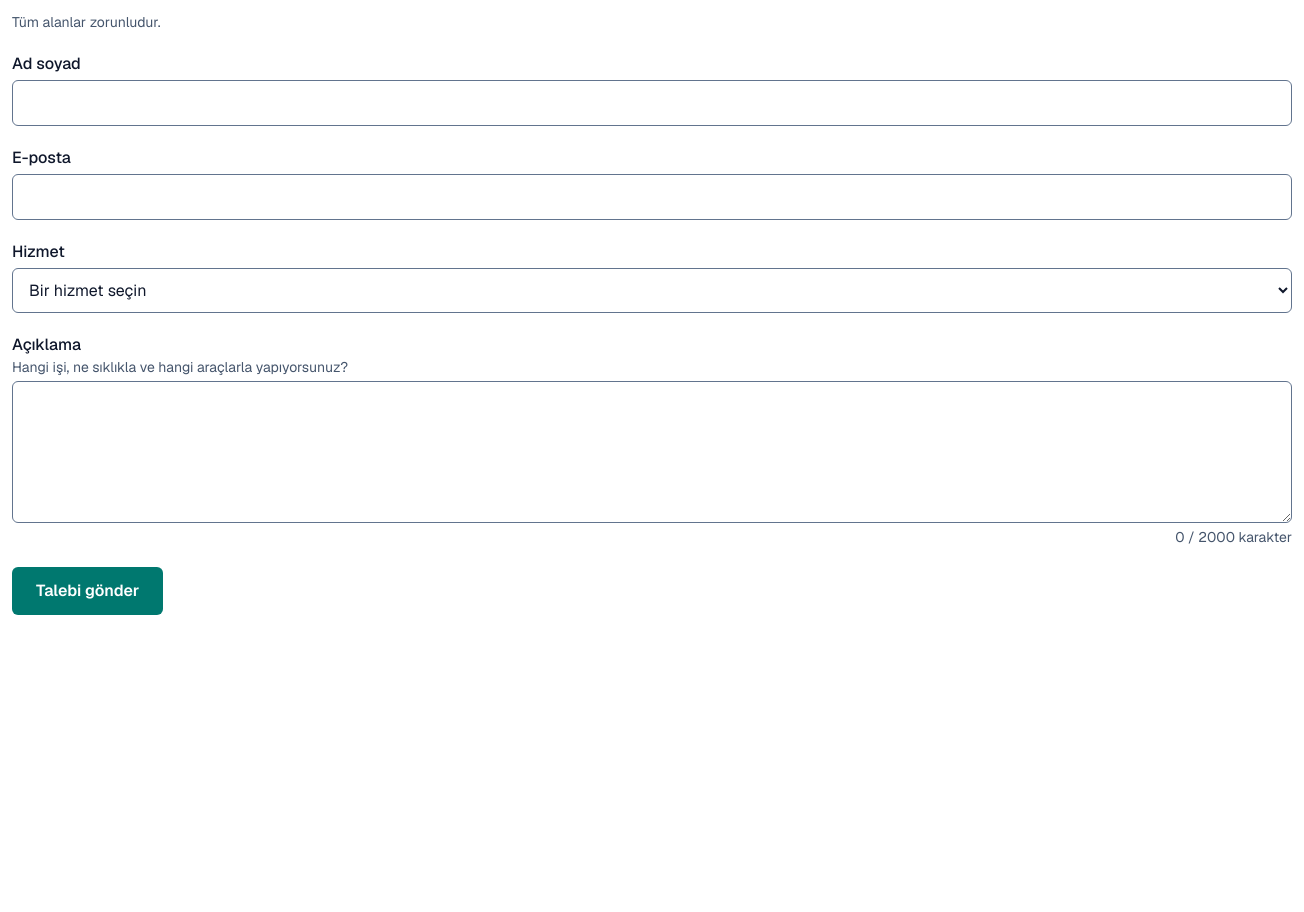
RequestForm › never shows success on 201 without an id and keeps the entered data
Type "Ayşe Yılmaz" into the field labelled "Ad soyad" at (652, 103), box [12, 80, 1292, 126]
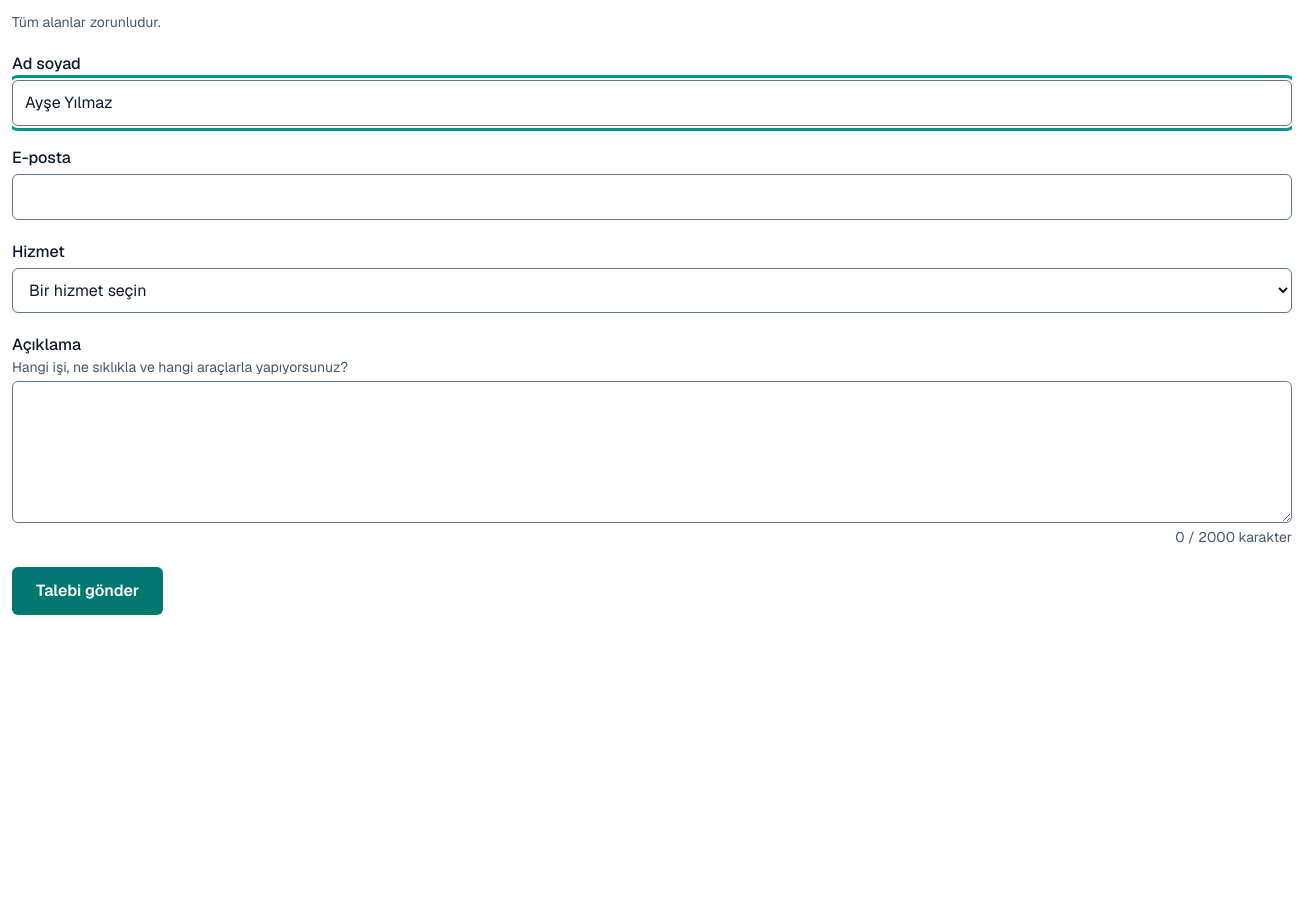
Type "Ayse@Ornek.com" into the field labelled "E-posta" at (652, 197), box [12, 174, 1292, 220]
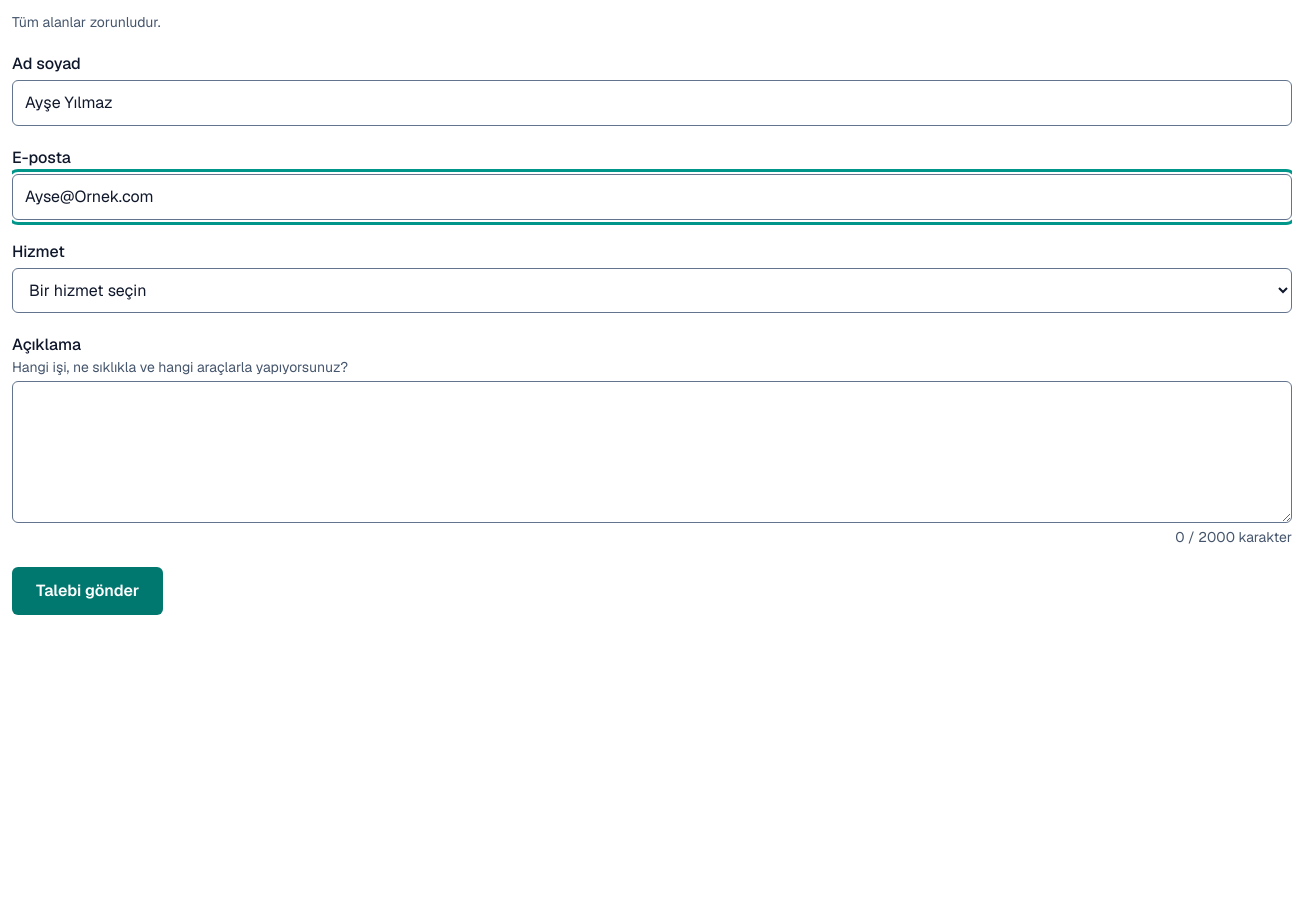
Select "Fatura ve belge otomasyonu" in the dropdown labelled "Hizmet" at (652, 290), box [12, 268, 1292, 313]
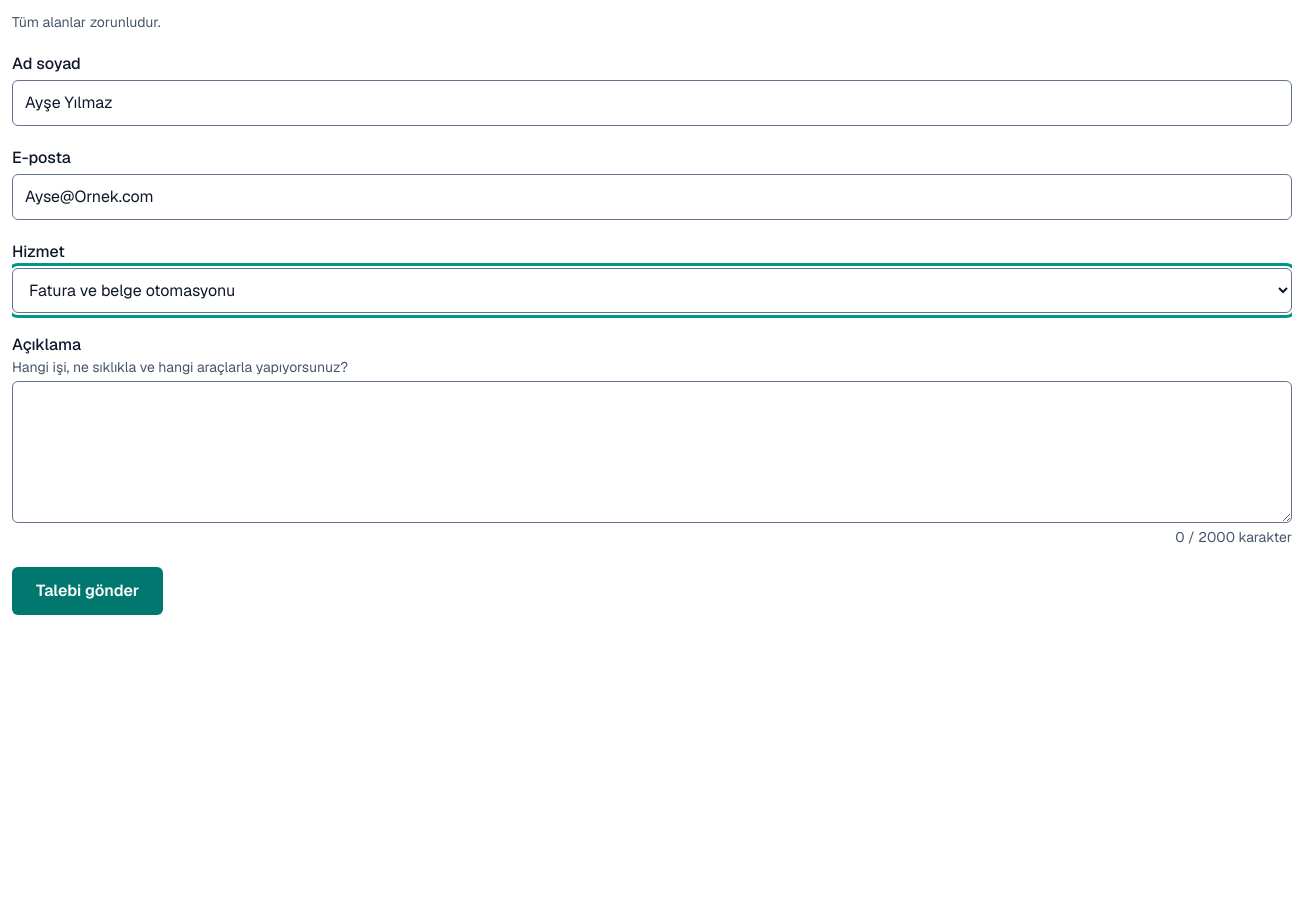
Type "Aylık 200 faturayı elle giriyoruz." into the text box labelled "Açıklama" at (652, 452), box [12, 381, 1292, 523]
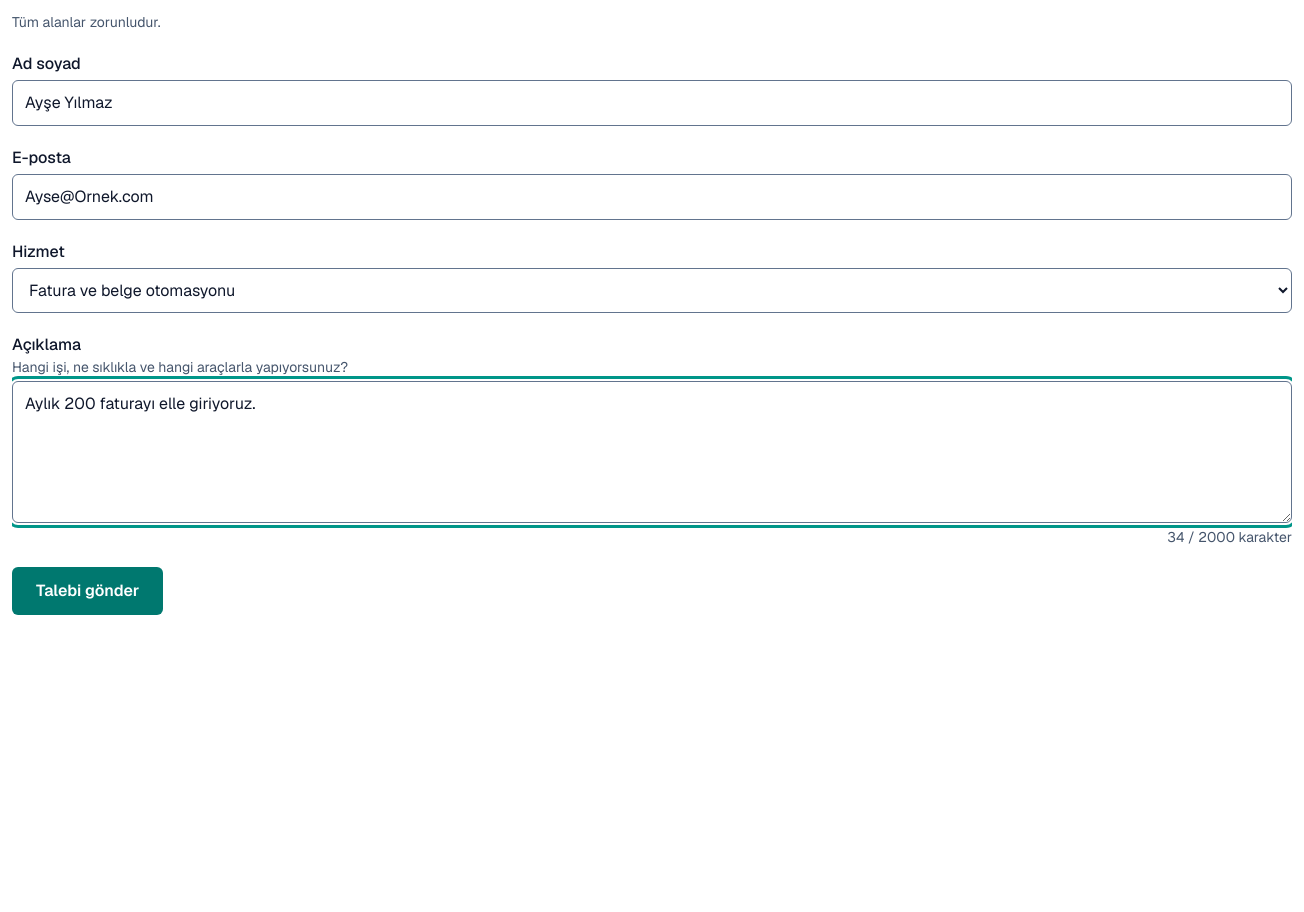
Click the button "Talebi gönder" at (88, 591), box [12, 567, 163, 615]
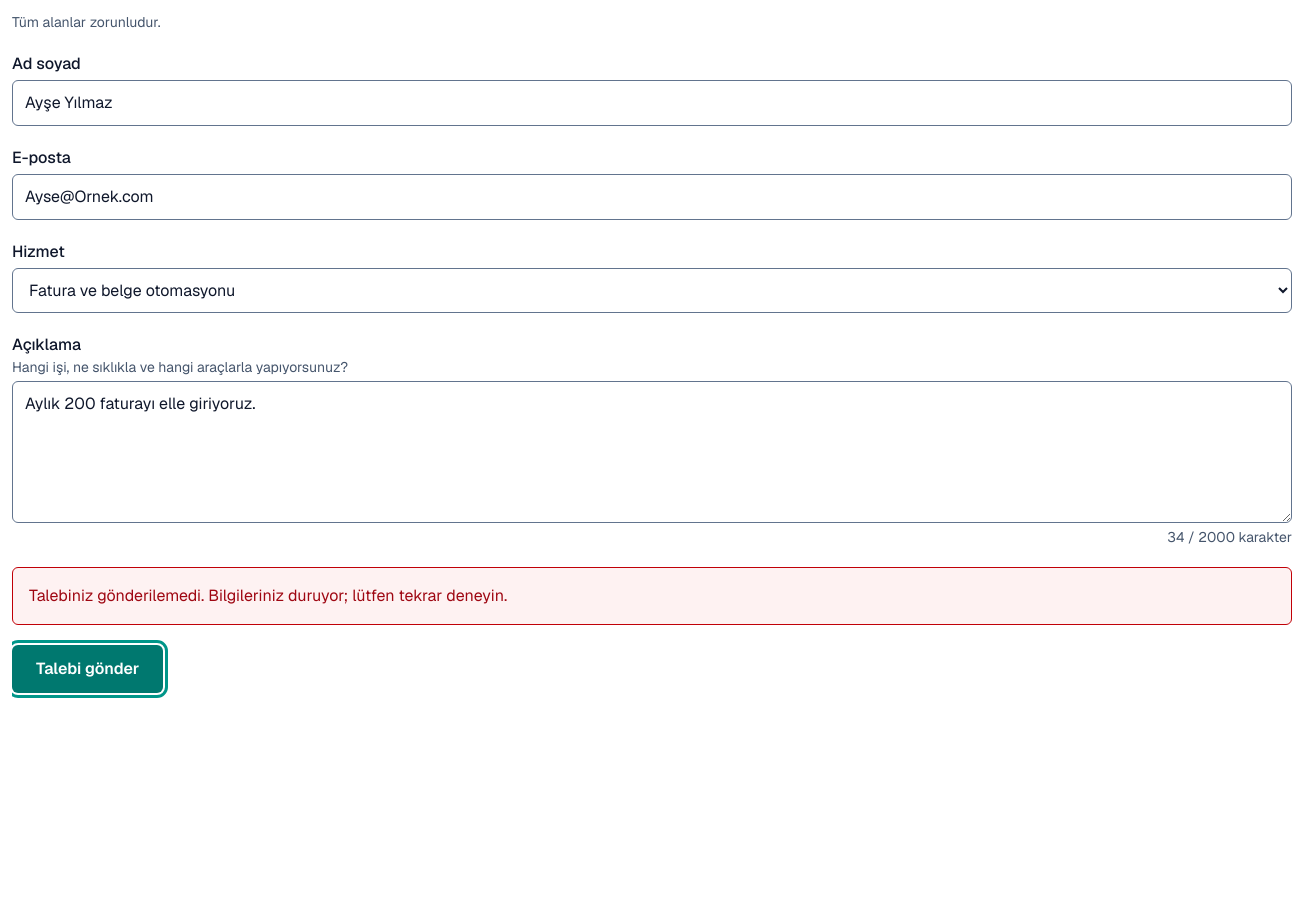
Expected: the button "Talebi gönder" is shown, [12, 645, 163, 693]
Now the message shows "gönderilemedi", box [29, 585, 507, 606]
